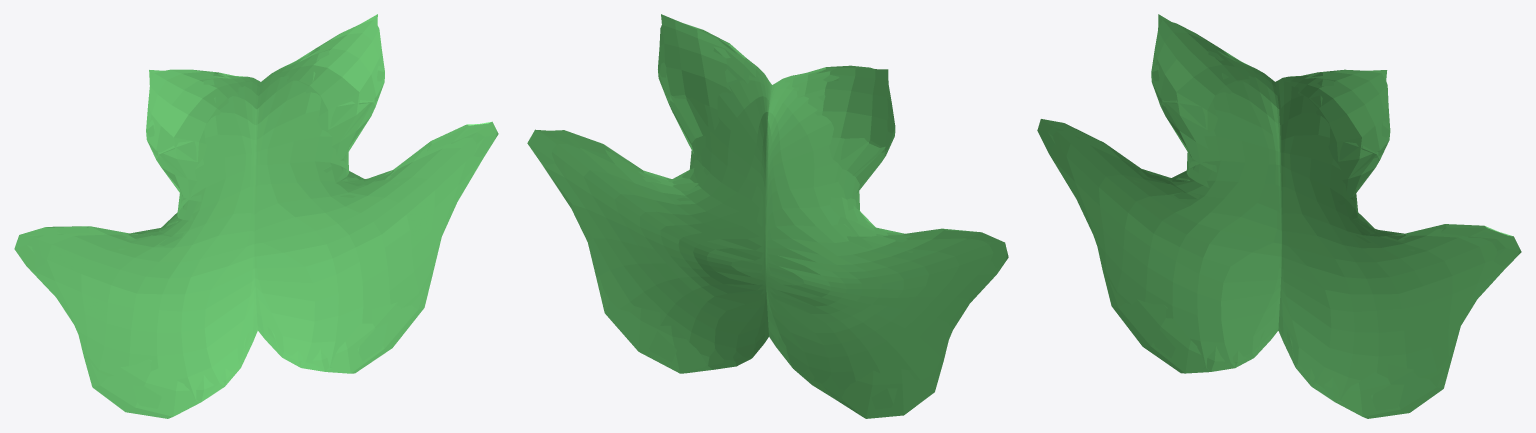
Rendered from TongueLeaf.fbx.
The picture shows the model from 3 angles, left to right: view 1: azimuth 30°, elevation 25°; view 2: azimuth 150°, elevation 25°; view 3: azimuth 330°, elevation 25°; orthographic projection.
Parts seen in each view (by area): view 1: Cube; view 2: Cube; view 3: Cube.
Boxes of the visible parts, x1,y1,x2,y2 form: Cube: (14, 14, 498, 418); Cube: (527, 14, 1008, 418); Cube: (1037, 14, 1521, 418).
Bounding box in the file's own units: 4.45 × 3.12 × 0.2005.
Materials: 1 (1 with a texture image).
